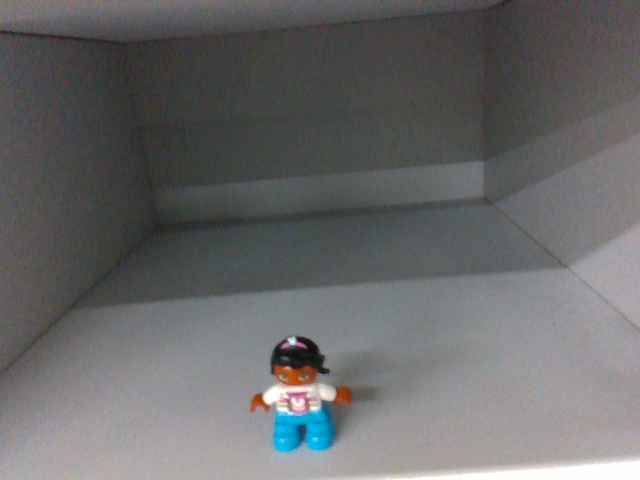people: (250, 333, 355, 449)
